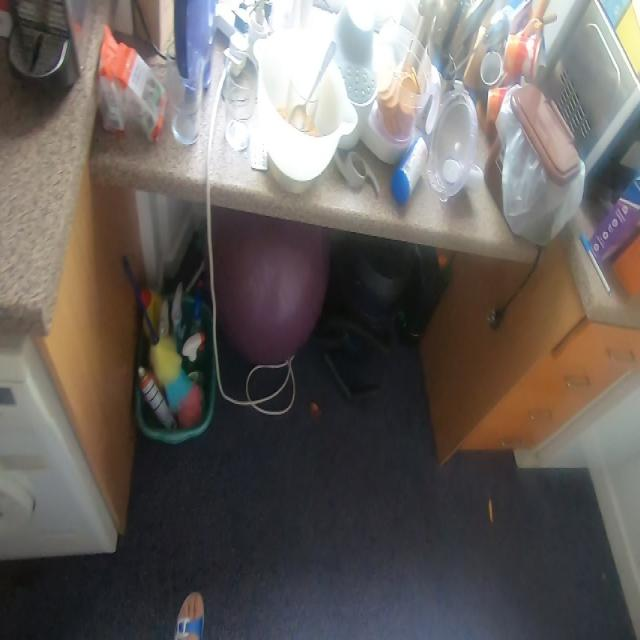bin: (487, 76, 586, 252)
glass: (166, 37, 204, 152), (223, 46, 257, 159)
spoon: (288, 36, 340, 132)
